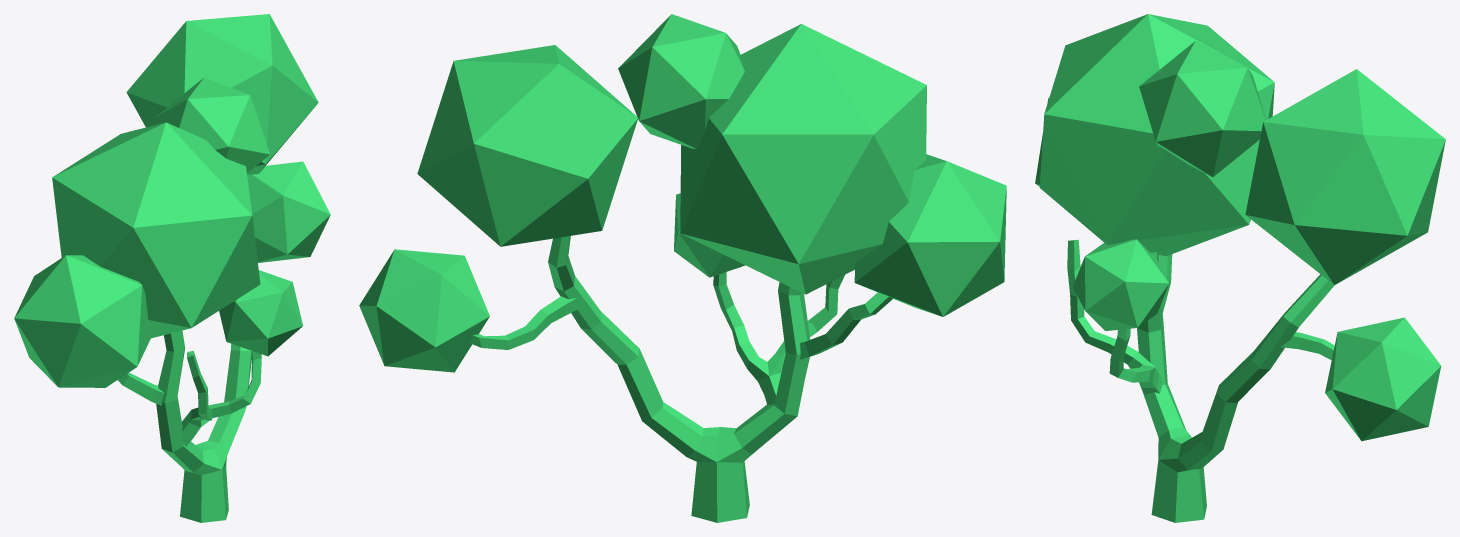
The model's file is tree.glb.
3 views of the same model, side by side, from view 1: azimuth 30°, elevation 25°; view 2: azimuth 150°, elevation 25°; view 3: azimuth 270°, elevation 25° (orthographic). The views are drawn at different scales.
Parts seen in each view (by area): view 1: Tree_lp_11; view 2: Tree_lp_11; view 3: Tree_lp_11.
Part boxes in pixels (bbox=[...]): Tree_lp_11: bbox=[14, 14, 330, 522]; Tree_lp_11: bbox=[359, 14, 1006, 522]; Tree_lp_11: bbox=[1035, 14, 1445, 522].
Bounding box in the file's own units: 27.98 × 26.54 × 20.8.
